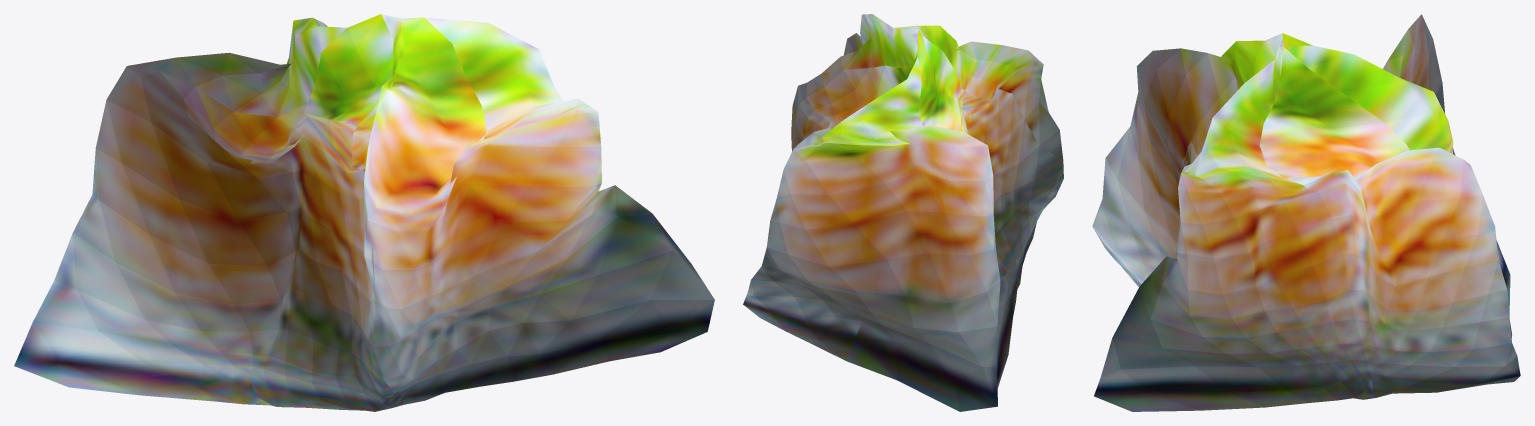
File: salmon_sushi_on_a_plate.gltf
The picture shows the model from 3 angles, left to right: view 1: azimuth 30°, elevation 25°; view 2: azimuth 150°, elevation 25°; view 3: azimuth 270°, elevation 25°; orthographic projection. The views are drawn at different scales.
Parts seen in each view (by area): view 1: pMesh1; view 2: pMesh1; view 3: pMesh1.
Part boxes in pixels (bbox=[...]): pMesh1: bbox=[14, 14, 714, 411]; pMesh1: bbox=[743, 14, 1063, 411]; pMesh1: bbox=[1092, 14, 1520, 411].
Size of the model in its own units: 3.43 by 2.82 by 2.98.
1 material, 1 textured.
